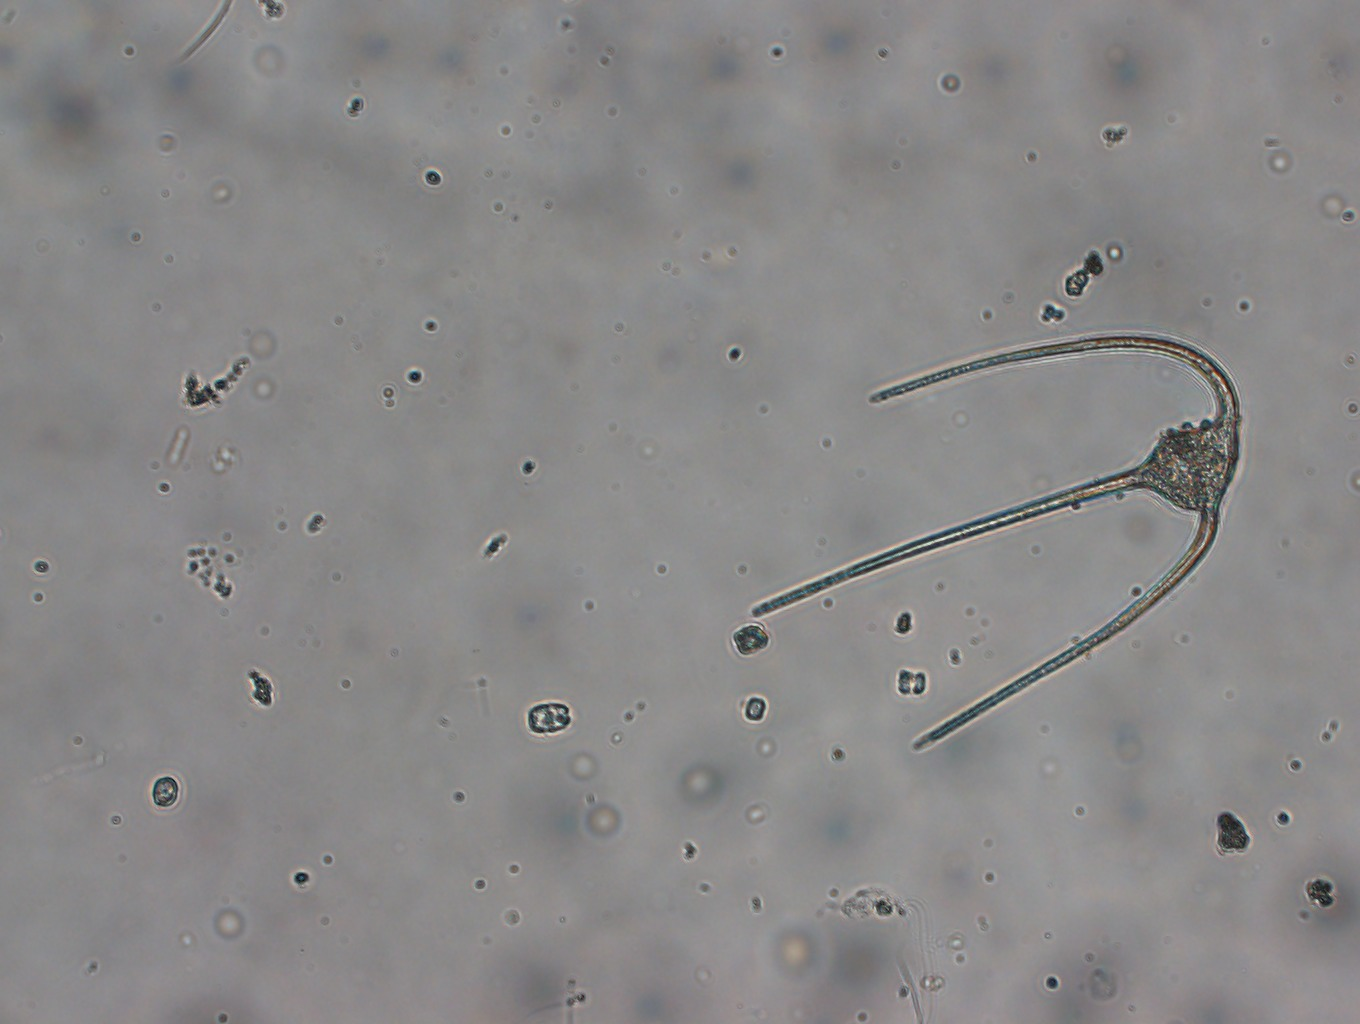ceratium trichoceros: (750, 335, 1243, 751)
